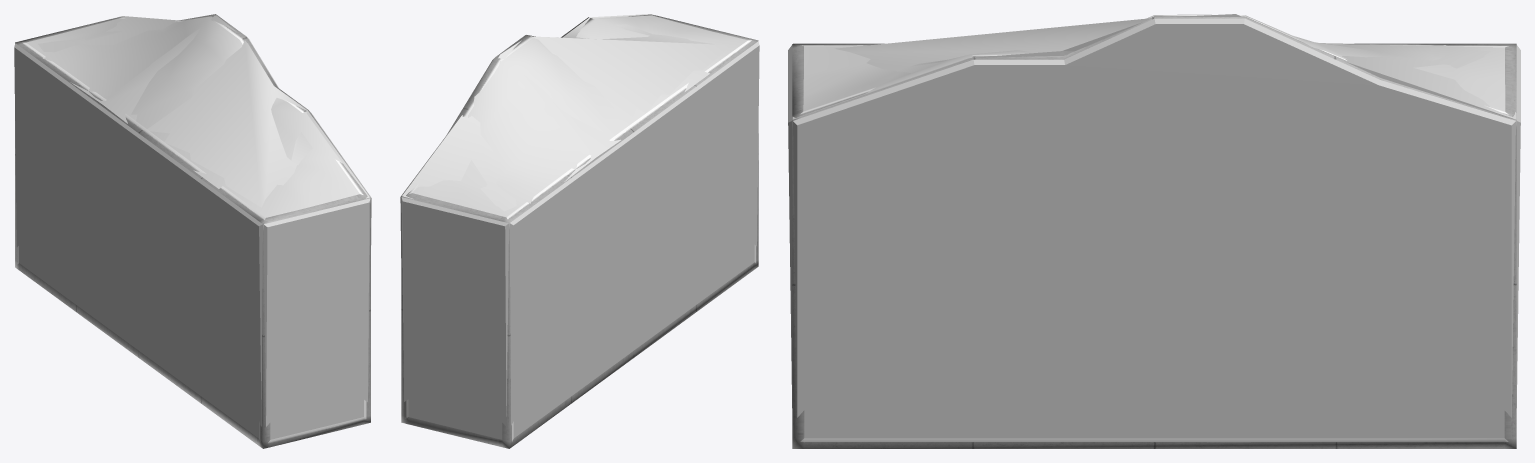
File: s_gm_crawl_08.dae
3 renders of one model, left to right at view 1: azimuth 30°, elevation 25°; view 2: azimuth 150°, elevation 25°; view 3: azimuth 270°, elevation 25°, orthographic. The views are drawn at different scales.
Parts seen in each view (by area): view 1: Colmesh_crawl_08-1, crawl_08_a25, crawl_08_a100; view 2: Colmesh_crawl_08-1, crawl_08_a25, crawl_08_a100; view 3: Colmesh_crawl_08-1, crawl_08_a100, crawl_08_a25.
Boxes of the visible parts, x1,y1,x2,y2 form: Colmesh_crawl_08-1: (14, 17, 371, 439); crawl_08_a25: (38, 15, 369, 207); crawl_08_a100: (15, 14, 370, 448); Colmesh_crawl_08-1: (400, 16, 759, 439); crawl_08_a25: (402, 14, 731, 211); crawl_08_a100: (401, 14, 758, 448); Colmesh_crawl_08-1: (788, 14, 1520, 438); crawl_08_a100: (792, 15, 1516, 448); crawl_08_a25: (792, 14, 1516, 119).
Size of the model in its own units: 2.1 by 8.1 by 5.29.
